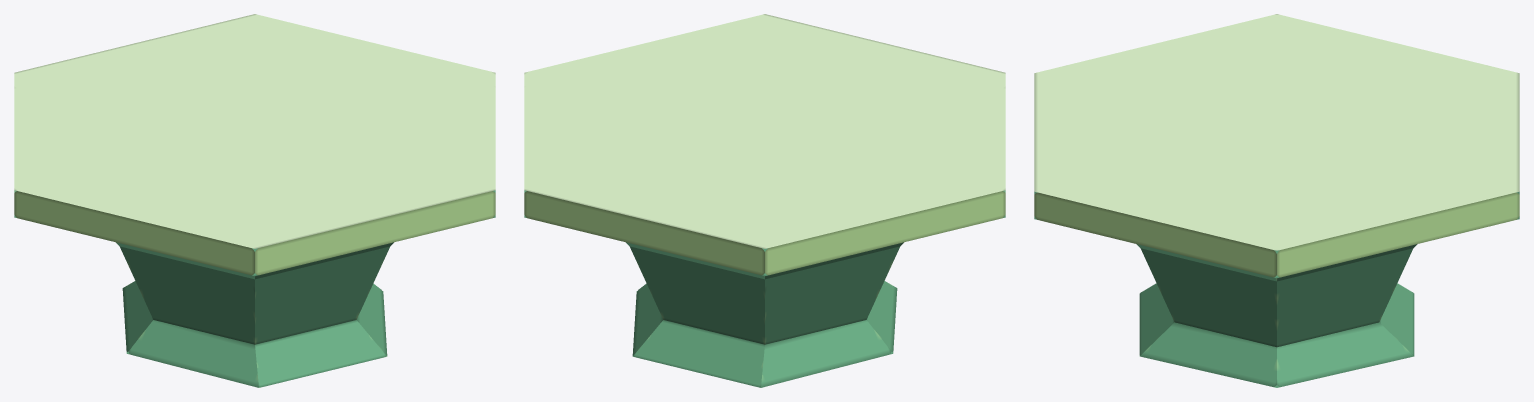
The model's file is Table.fbx.
3 views of the same model, side by side, from view 1: azimuth 30°, elevation 25°; view 2: azimuth 150°, elevation 25°; view 3: azimuth 270°, elevation 25° (orthographic).
Visible parts, largest first — view 1: cylinder; view 2: cylinder; view 3: cylinder.
Boxes of the visible parts, bbox=[...] form: cylinder: bbox=[14, 14, 495, 387]; cylinder: bbox=[524, 14, 1005, 387]; cylinder: bbox=[1034, 14, 1519, 387].
Size of the model in its own units: 308 by 117 by 267.
1 material, 1 textured.
